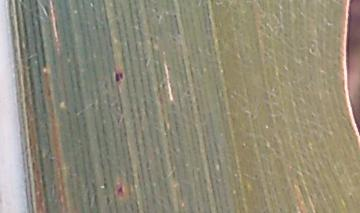tarspot: (115, 183, 126, 197), (113, 71, 125, 82)
